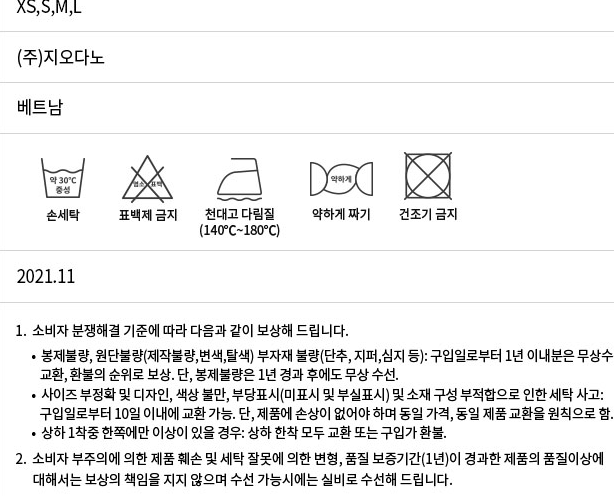KR_gentle_wring: (303, 157, 380, 205)
KR_hand_wash_30_neutral: (37, 151, 88, 202)
KR_no_chlorine_bleach: (118, 150, 176, 205)
KR_no_tumble_dry: (399, 149, 460, 205)
